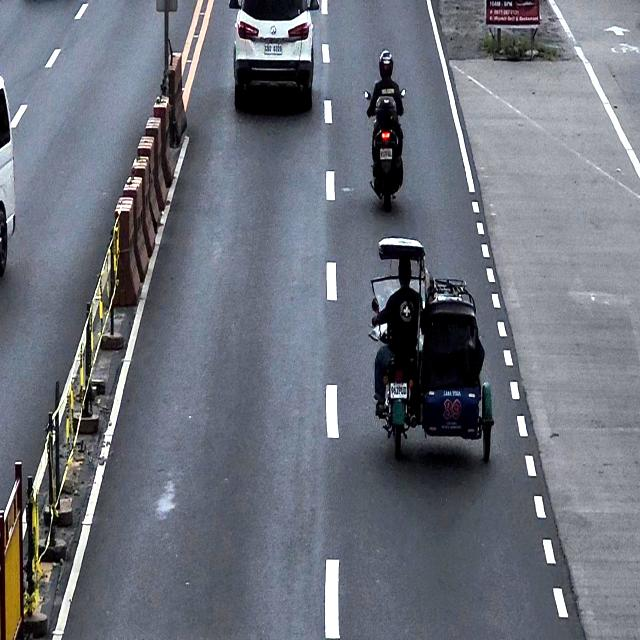Car: (228, 0, 320, 110), (0, 74, 17, 286)
License-Plate: (390, 382, 408, 400), (263, 42, 283, 56), (380, 146, 393, 160)
Motorcycle: (363, 88, 406, 211)
Tricycle: (368, 236, 494, 464)
